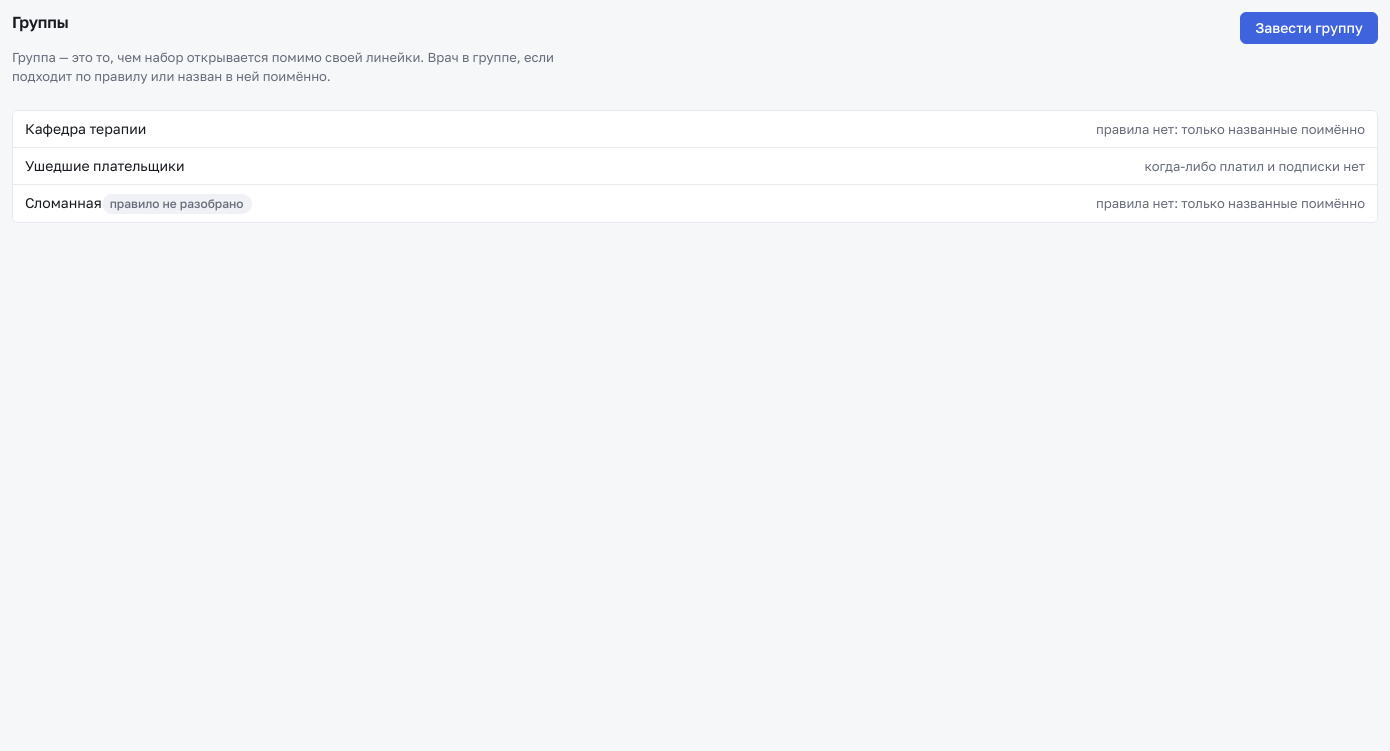
Test: группы врачей › номер врача не число — отказ до обращения к серверу
Click the text "Кафедра терапии" at (86, 129), box [25,119,146,139]
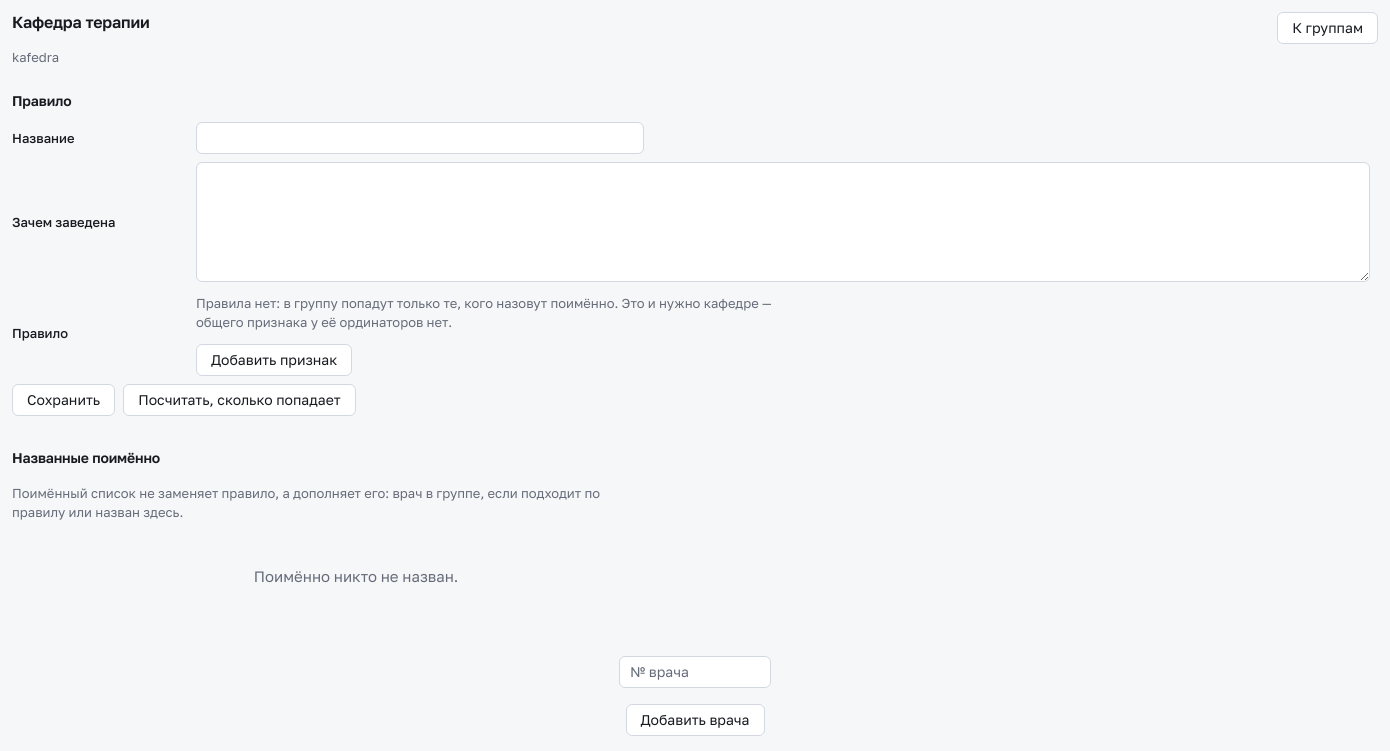
Expected: the heading "Названные поимённо" is shown, [12,449,160,466]
Type "иванов" into the field with placeholder "№ врача" at (695, 672), box [619,656,771,688]
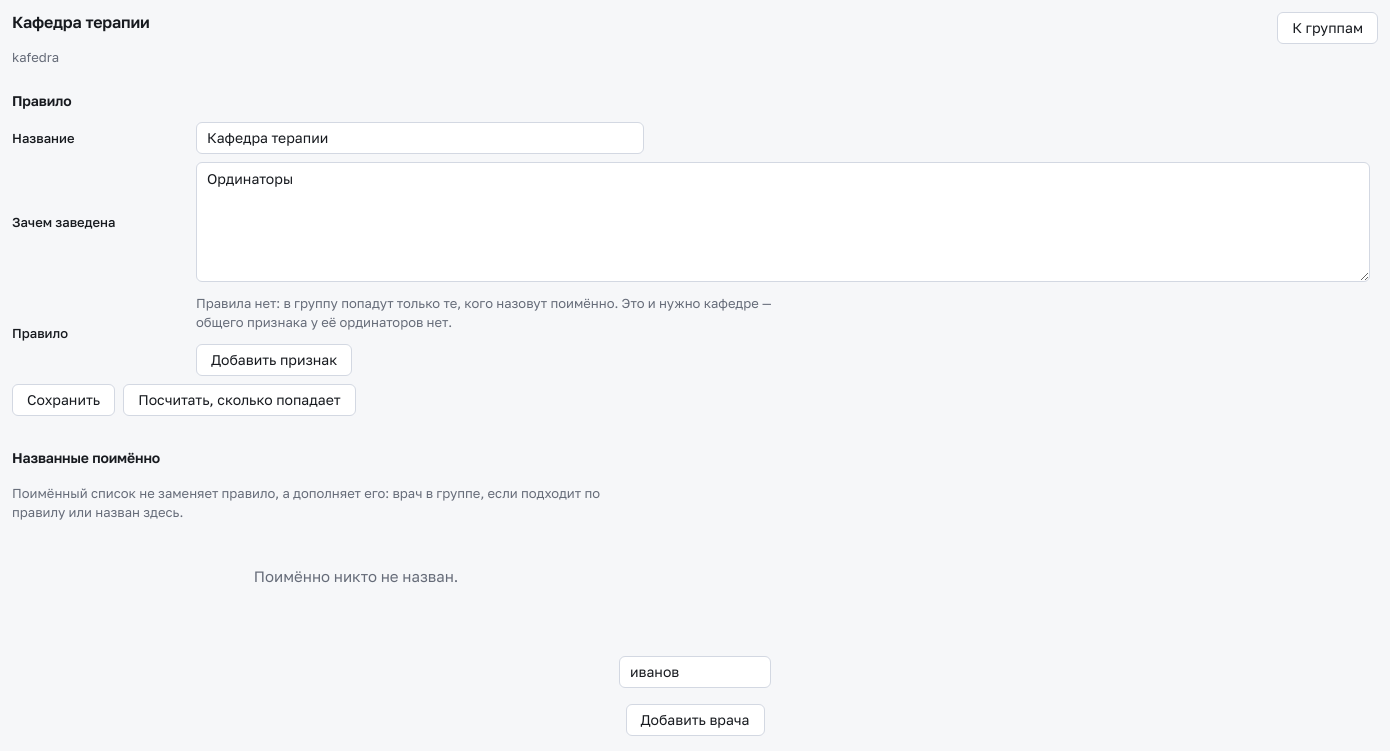
Click the button "Добавить врача" at (695, 720), box [626,704,764,736]
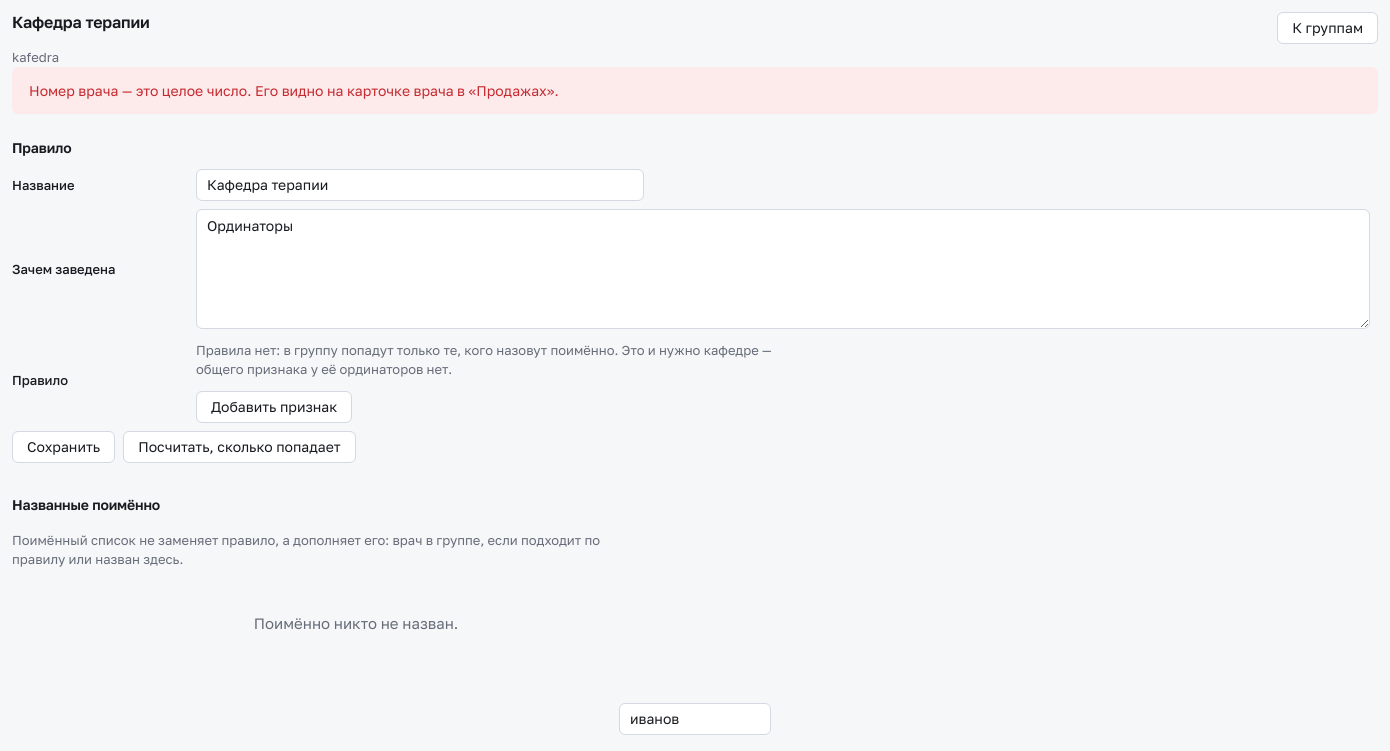
Expected: the text "Номер врача — это целое число. Его видно на карточке врача в «Продажах»." is shown, [12,67,1378,114]
